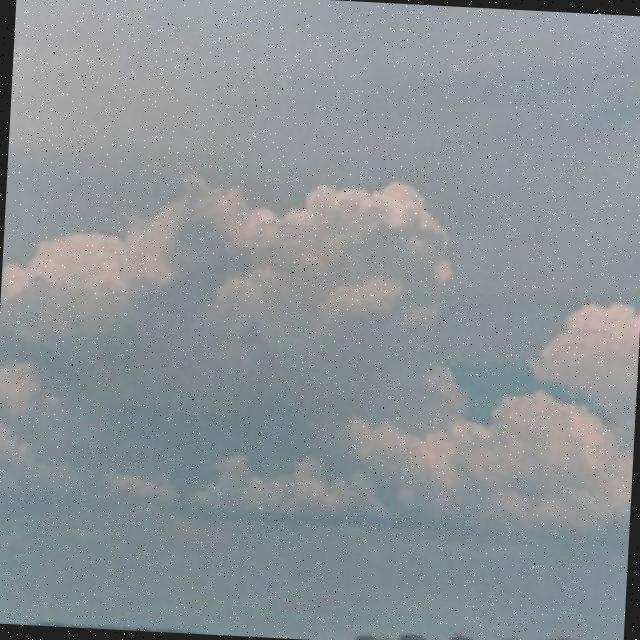Cs: (1, 157, 640, 567)
